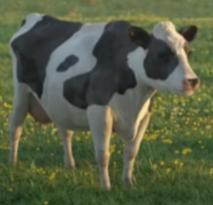cow: (7, 12, 201, 192)
